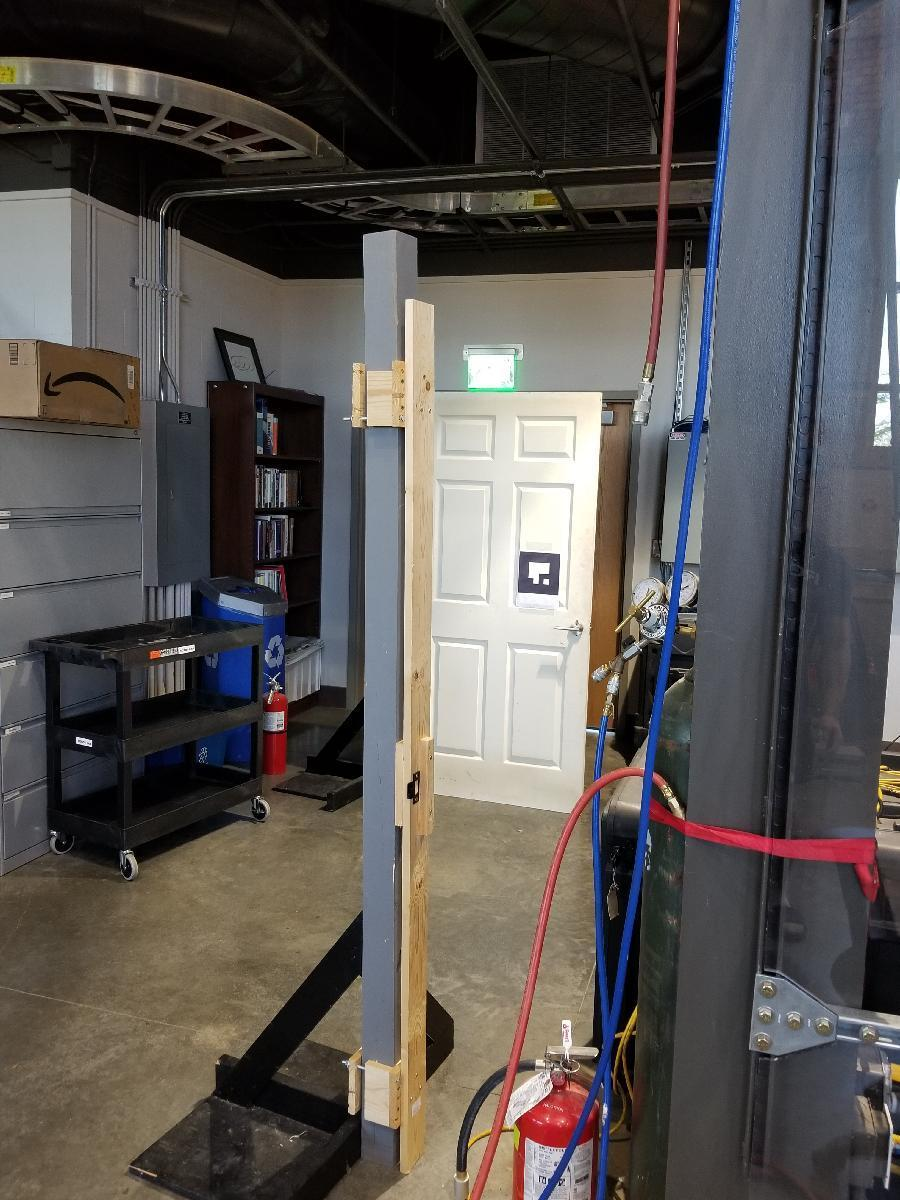door: (431, 393, 592, 813)
handle: (548, 613, 591, 647)
